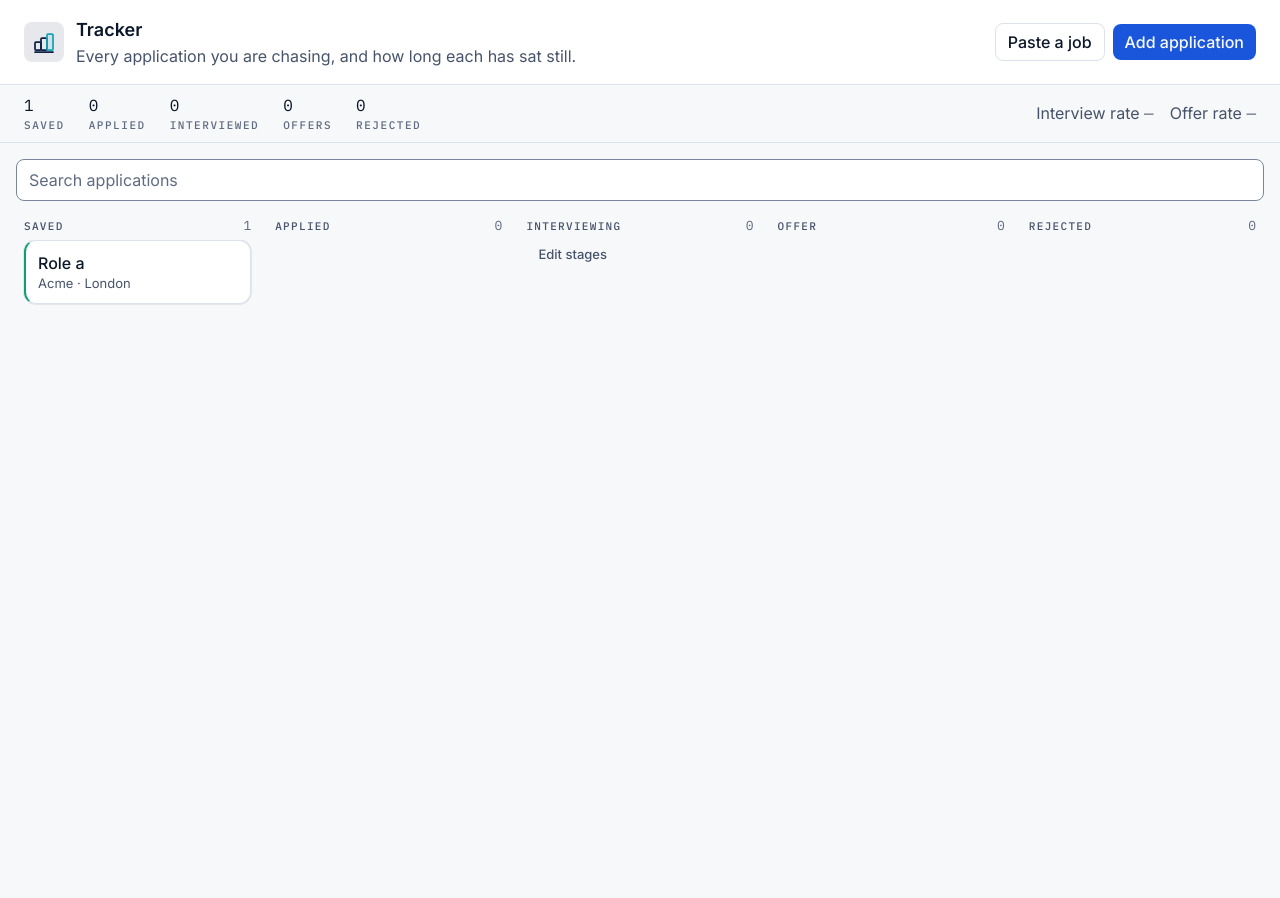
Test: the way back to the advert › hands the address over rather than navigating the app to it
The width and height of the screenshot is (1280, 898).
Click the button with test id "tracker-card-a" at (138, 272), box [24,240,251,304]
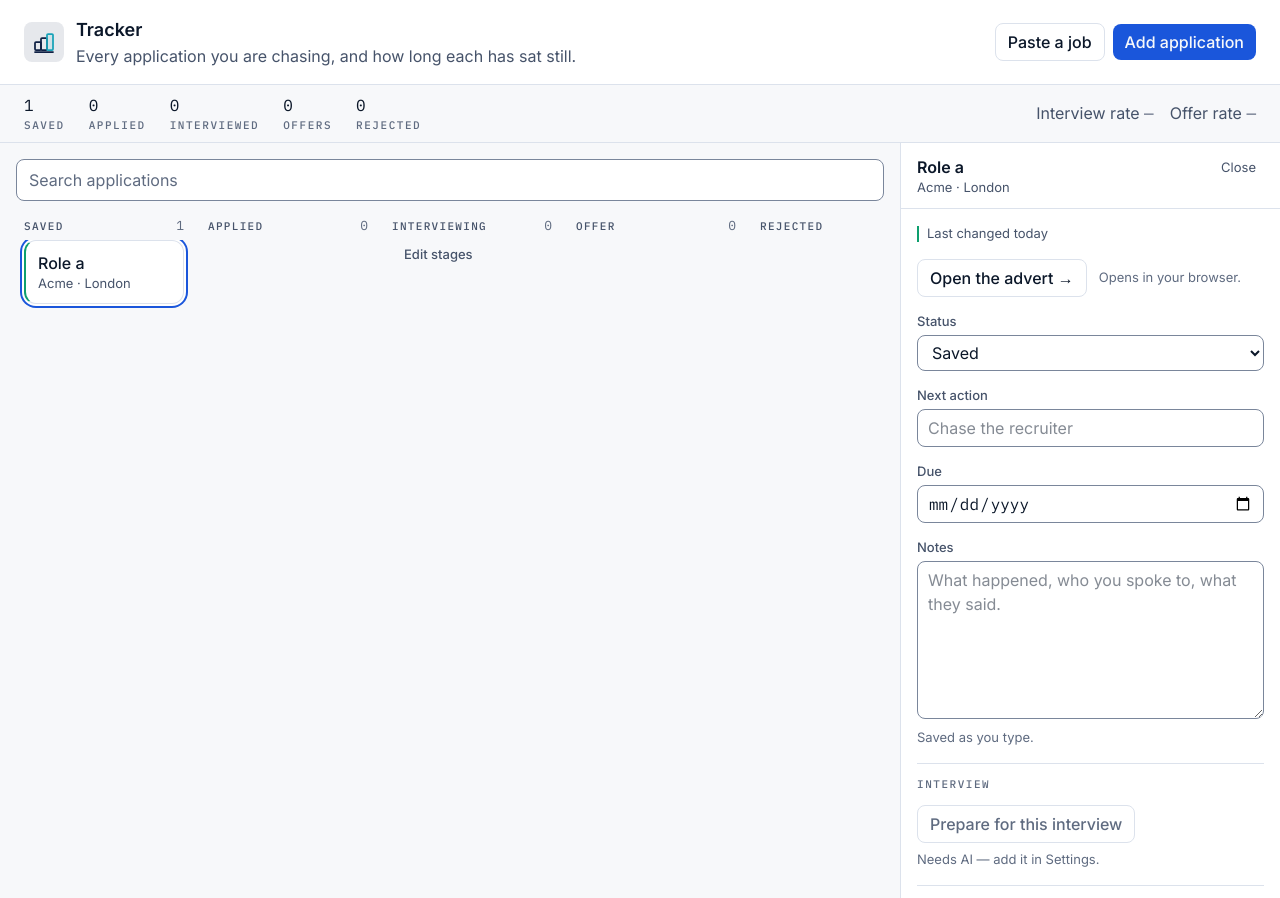
Now the text box with test id "detail-notes" is shown, box [917,561,1264,719]
